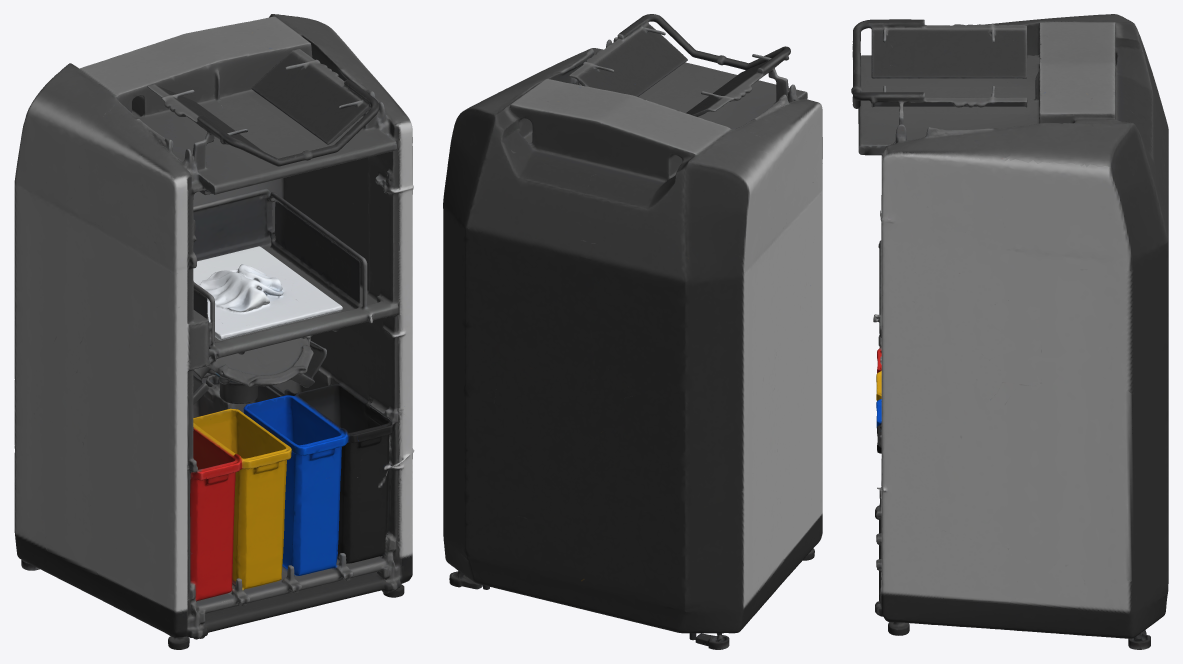
File: ExplodedView.glb
3 renders of one model, left to right at view 1: azimuth 30°, elevation 25°; view 2: azimuth 150°, elevation 25°; view 3: azimuth 270°, elevation 25°, orthographic. The views are drawn at different scales.
Visible parts, largest first — view 1: mesh_node; view 2: mesh_node; view 3: mesh_node.
Part boxes in pixels (x1=…): mesh_node: x1=14, y1=14, x2=414, y2=649; mesh_node: x1=443, y1=14, x2=822, y2=649; mesh_node: x1=851, y1=14, x2=1168, y2=649.
Bounding box in the file's own units: 1.22 × 1.9 × 1.05.
Materials: 1 (1 with a texture image).
